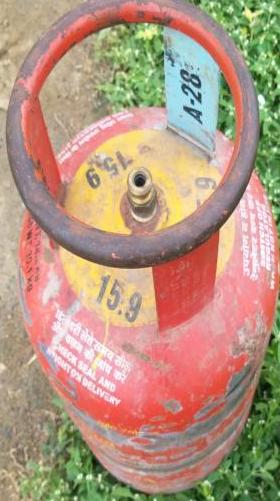cylinder: (0, 1, 280, 501)
